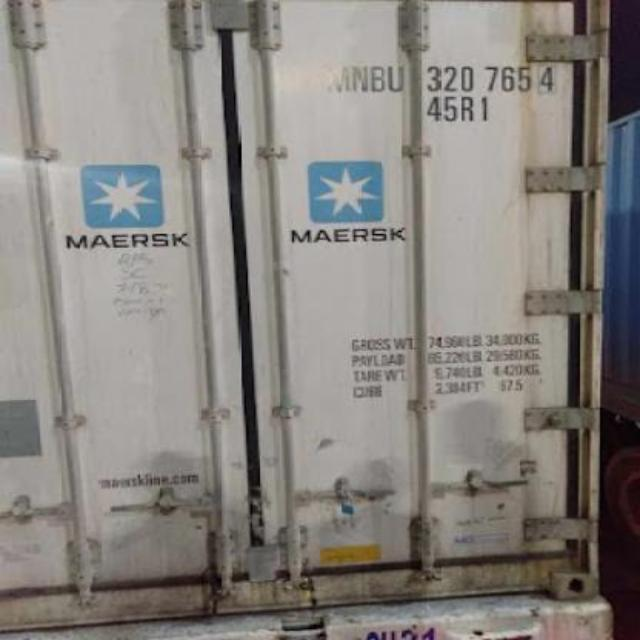0: (460, 62, 476, 92)
2: (444, 60, 458, 92)
3: (424, 58, 442, 92)
4: (538, 64, 558, 92)
5: (516, 62, 530, 92)
6: (500, 62, 518, 94)
7: (484, 60, 496, 94)
B: (368, 62, 386, 94)
M: (322, 60, 350, 96)
N: (350, 60, 370, 94)
U: (388, 60, 406, 92)
